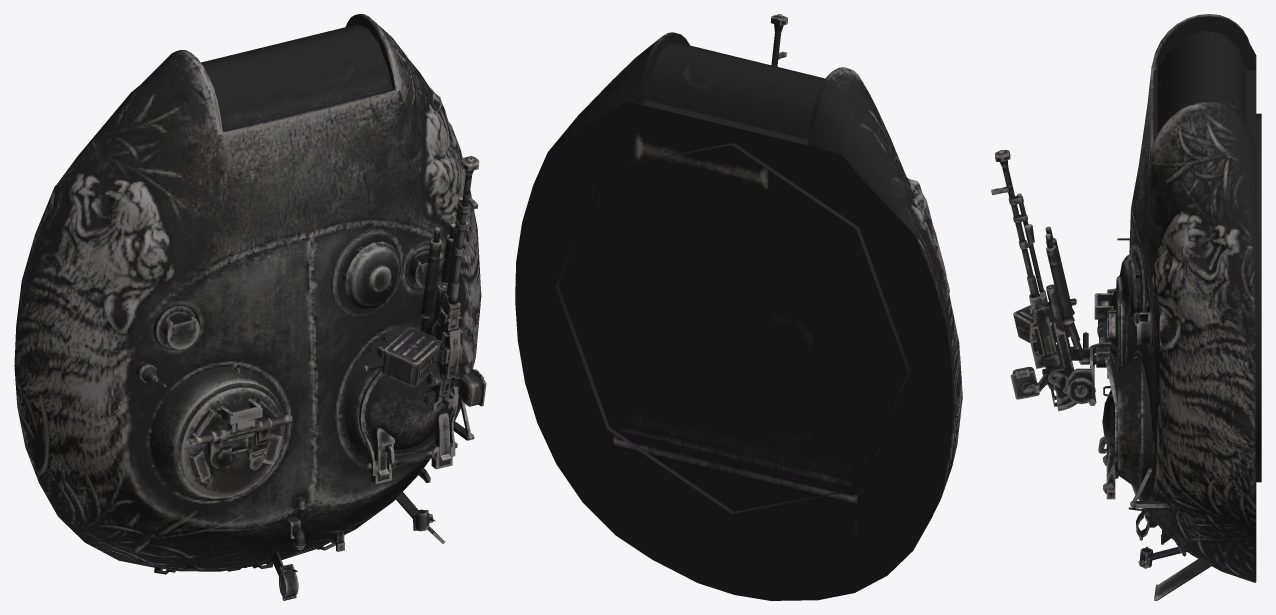
Rendered from Turret_01.glb.
The picture shows the model from 3 angles, left to right: view 1: azimuth 30°, elevation 25°; view 2: azimuth 150°, elevation 25°; view 3: azimuth 270°, elevation 25°; orthographic projection. The views are drawn at different scales.
Visible parts, largest first — view 1: set_0_group_0; view 2: set_0_group_0; view 3: set_0_group_0.
Part boxes in pixels (box(x1,y1,x2,y2)): set_0_group_0: box(14, 14, 486, 600); set_0_group_0: box(515, 14, 962, 600); set_0_group_0: box(991, 14, 1261, 600).
Bounding box in the file's own units: 2.8 × 3.2 × 1.55.
1 material, 1 textured.
